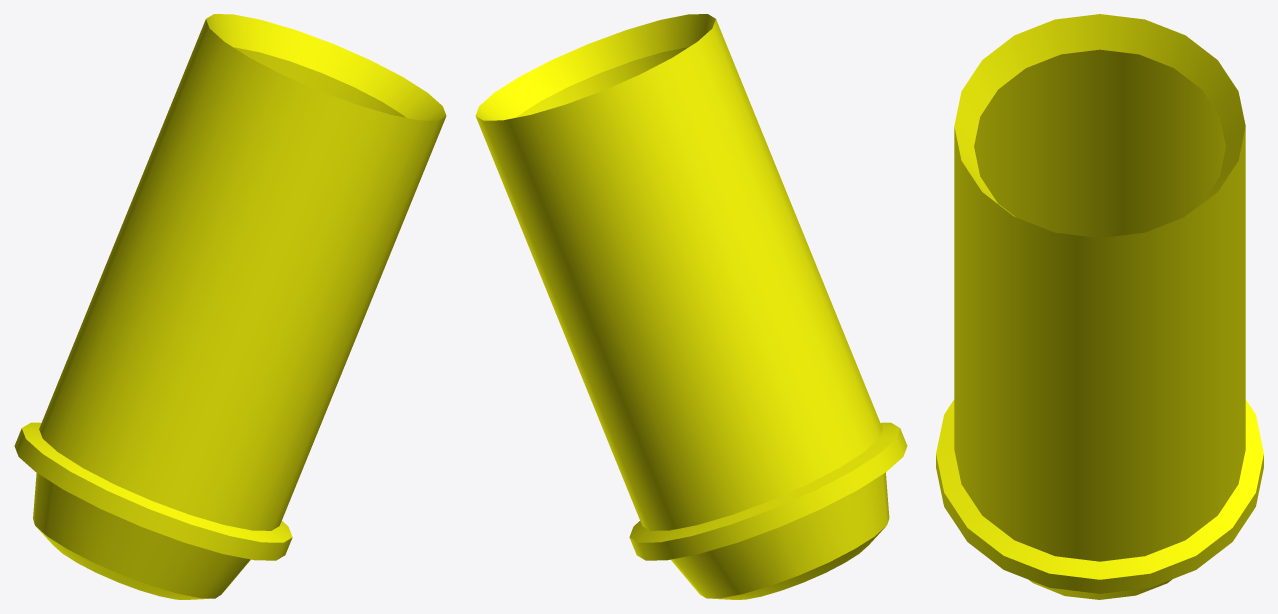
Rendered from Pommel_Qui_gon.obj.
The picture shows the model from 3 angles, left to right: view 1: azimuth 30°, elevation 25°; view 2: azimuth 150°, elevation 25°; view 3: azimuth 270°, elevation 25°; orthographic projection. The views are drawn at different scales.
Parts seen in each view (by area): view 1: Pommel_Qui_gon Qui_gon_GRP; view 2: Pommel_Qui_gon Qui_gon_GRP; view 3: Pommel_Qui_gon Qui_gon_GRP.
Boxes of the visible parts, left/top/right/bottom form: Pommel_Qui_gon Qui_gon_GRP: left=14, top=14, right=446, bottom=599; Pommel_Qui_gon Qui_gon_GRP: left=475, top=14, right=907, bottom=599; Pommel_Qui_gon Qui_gon_GRP: left=936, top=14, right=1263, bottom=599.
Bounding box in the file's own units: 4.71 × 6.09 × 3.04.
